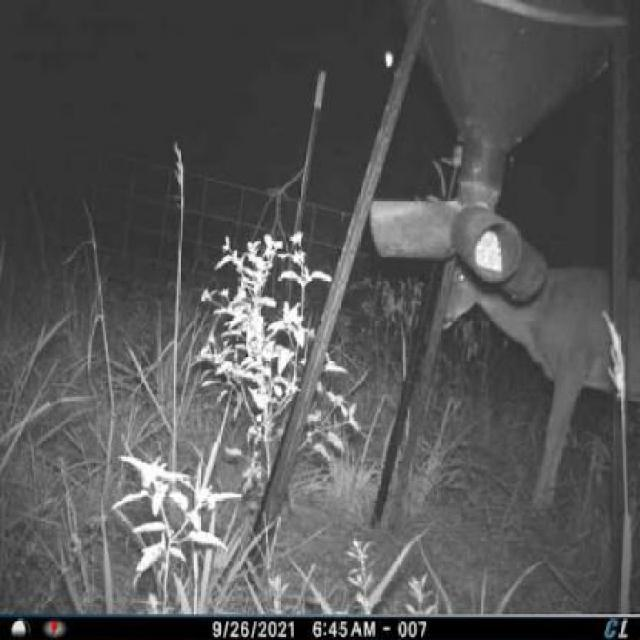Deer: (418, 146, 639, 534)
